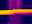Hotspot: (0, 9, 31, 15)
